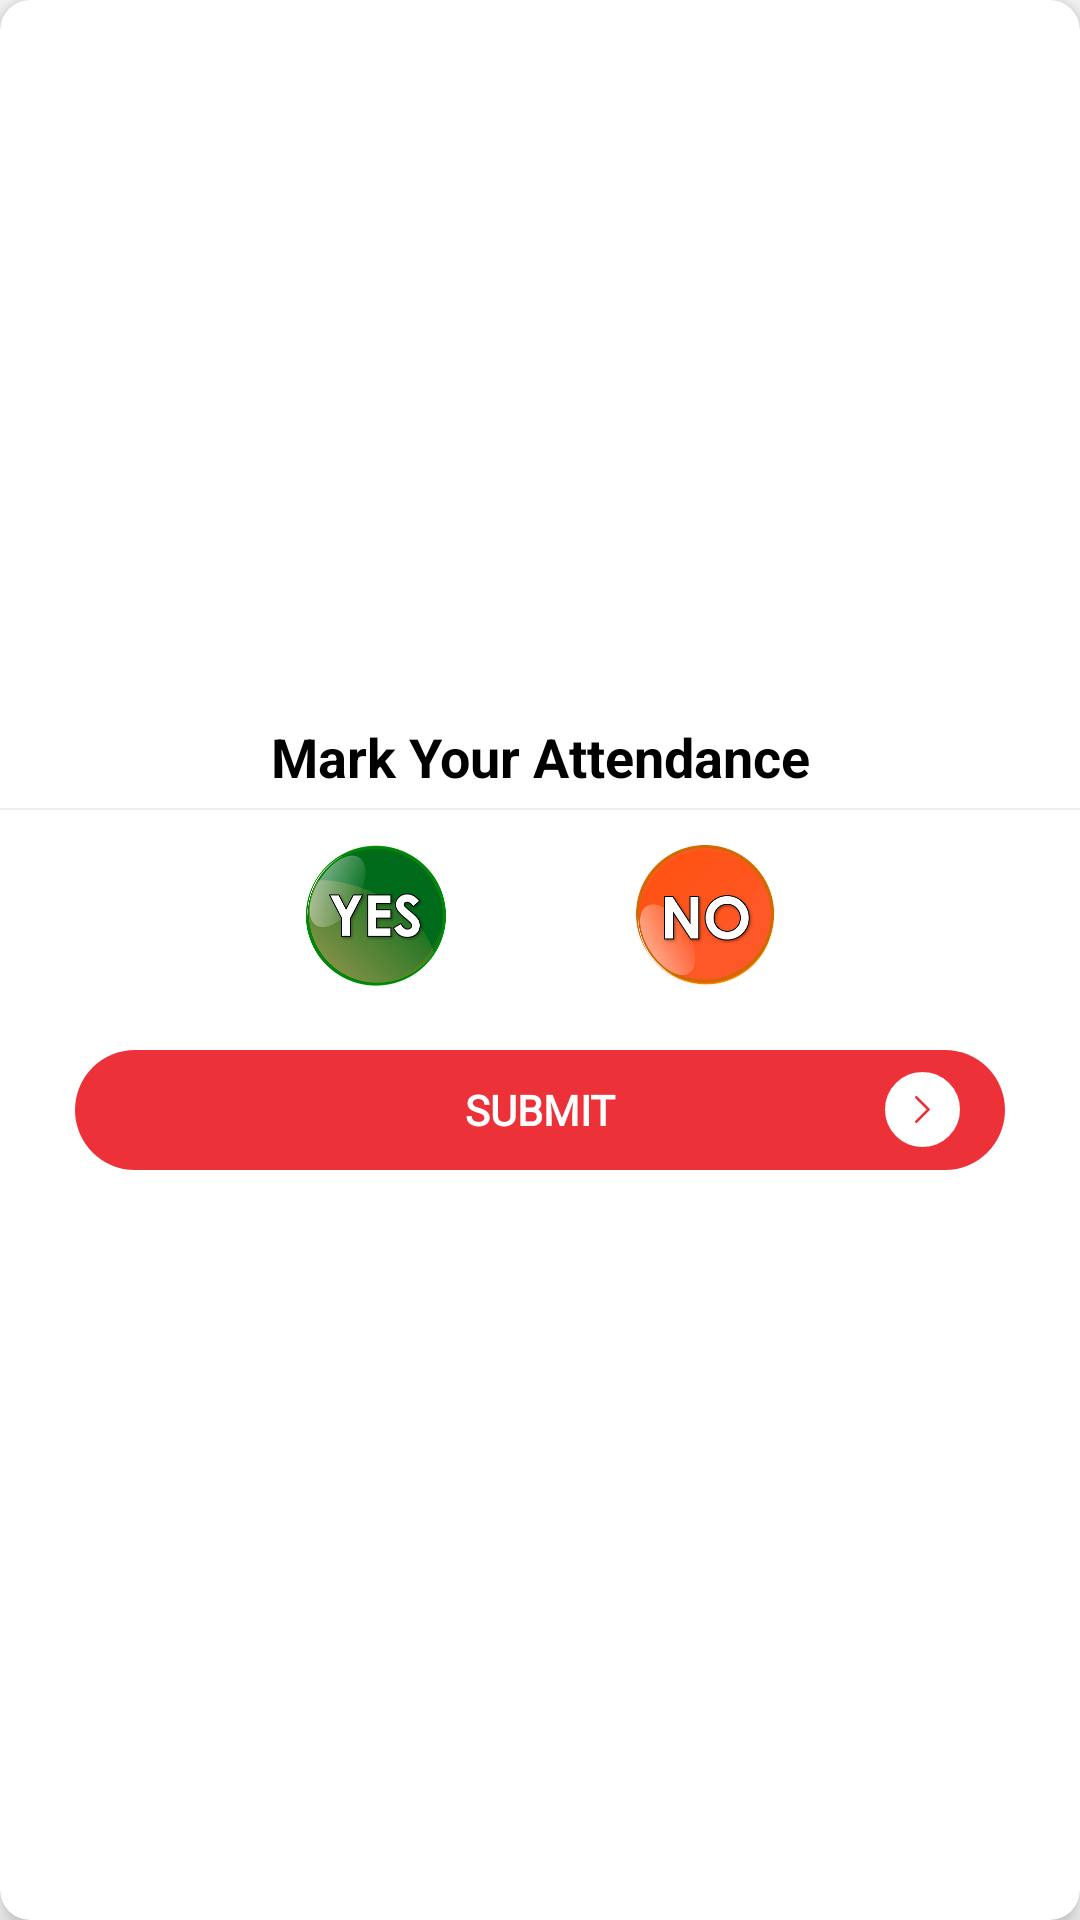

Screen size 1080w x 1920h. Icon name, then its box in pixels as (x1=x1, y1=y1, x2=x2, y2=y2):
next: (x1=885, y1=1072, x2=960, y2=1147)
